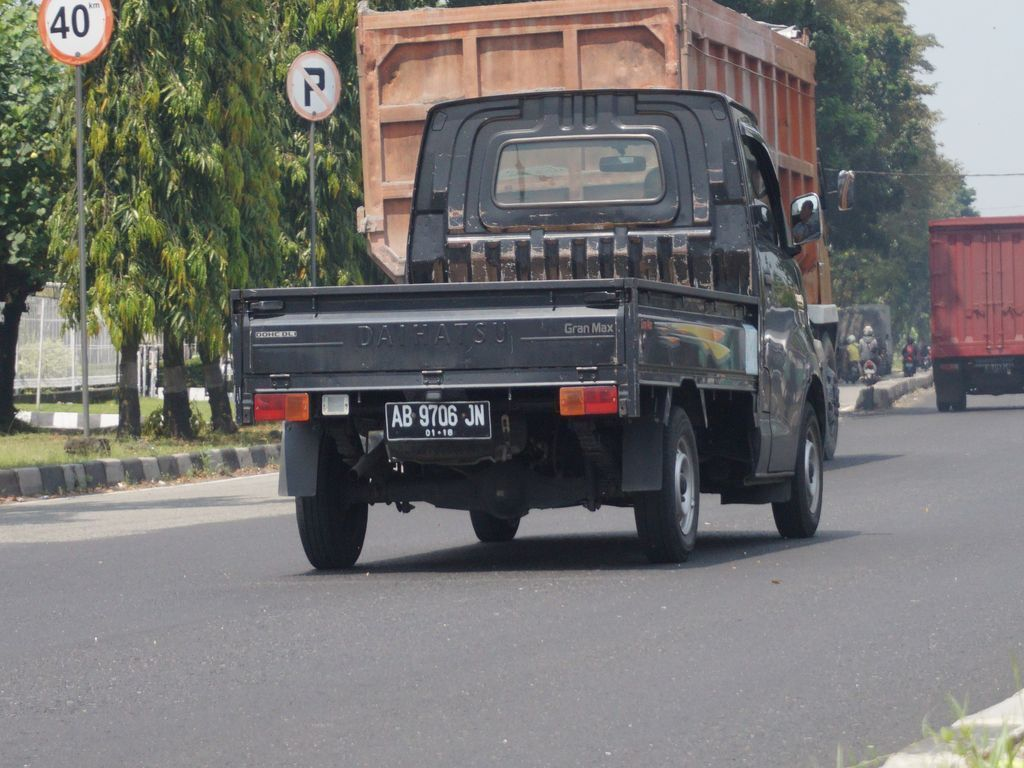plate: (389, 404, 487, 436)
